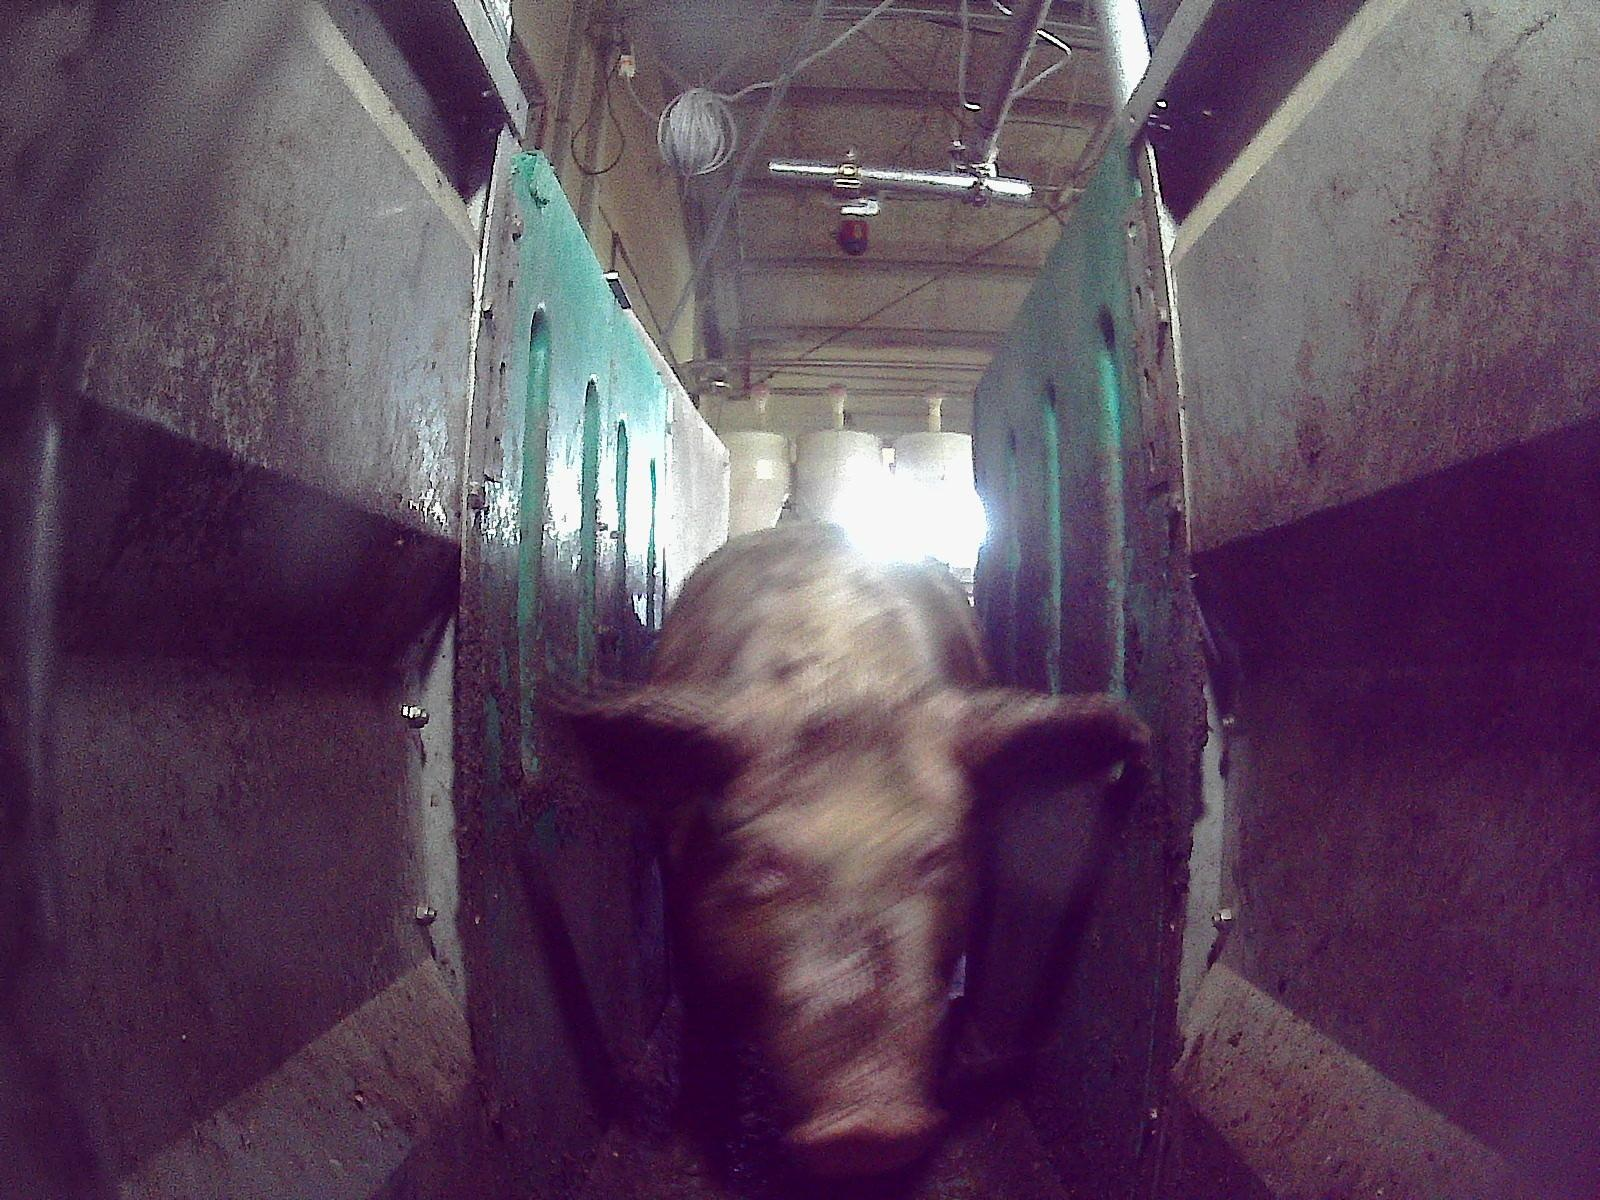Face: (683, 666, 979, 1181)
